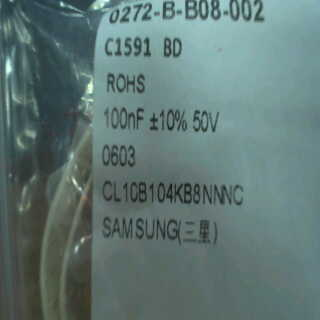100nF: (99, 101, 148, 134)
